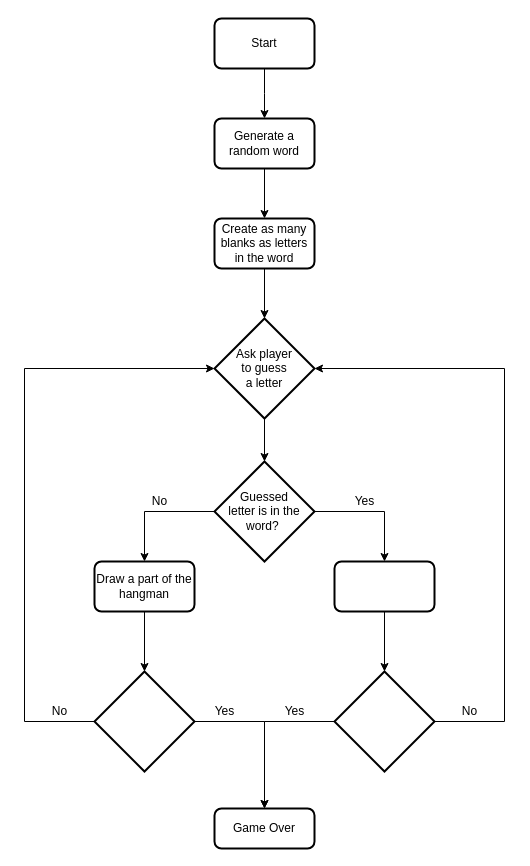
Image size: 530x866. Some labels were removed from this diagram. The centre of each missing label's shape, as x and y in pixels:
"Draw the letter in place" goes at point (384, 586).
"Hangman is complete?" goes at point (144, 721).
"Word is complete?" goes at point (384, 721).
